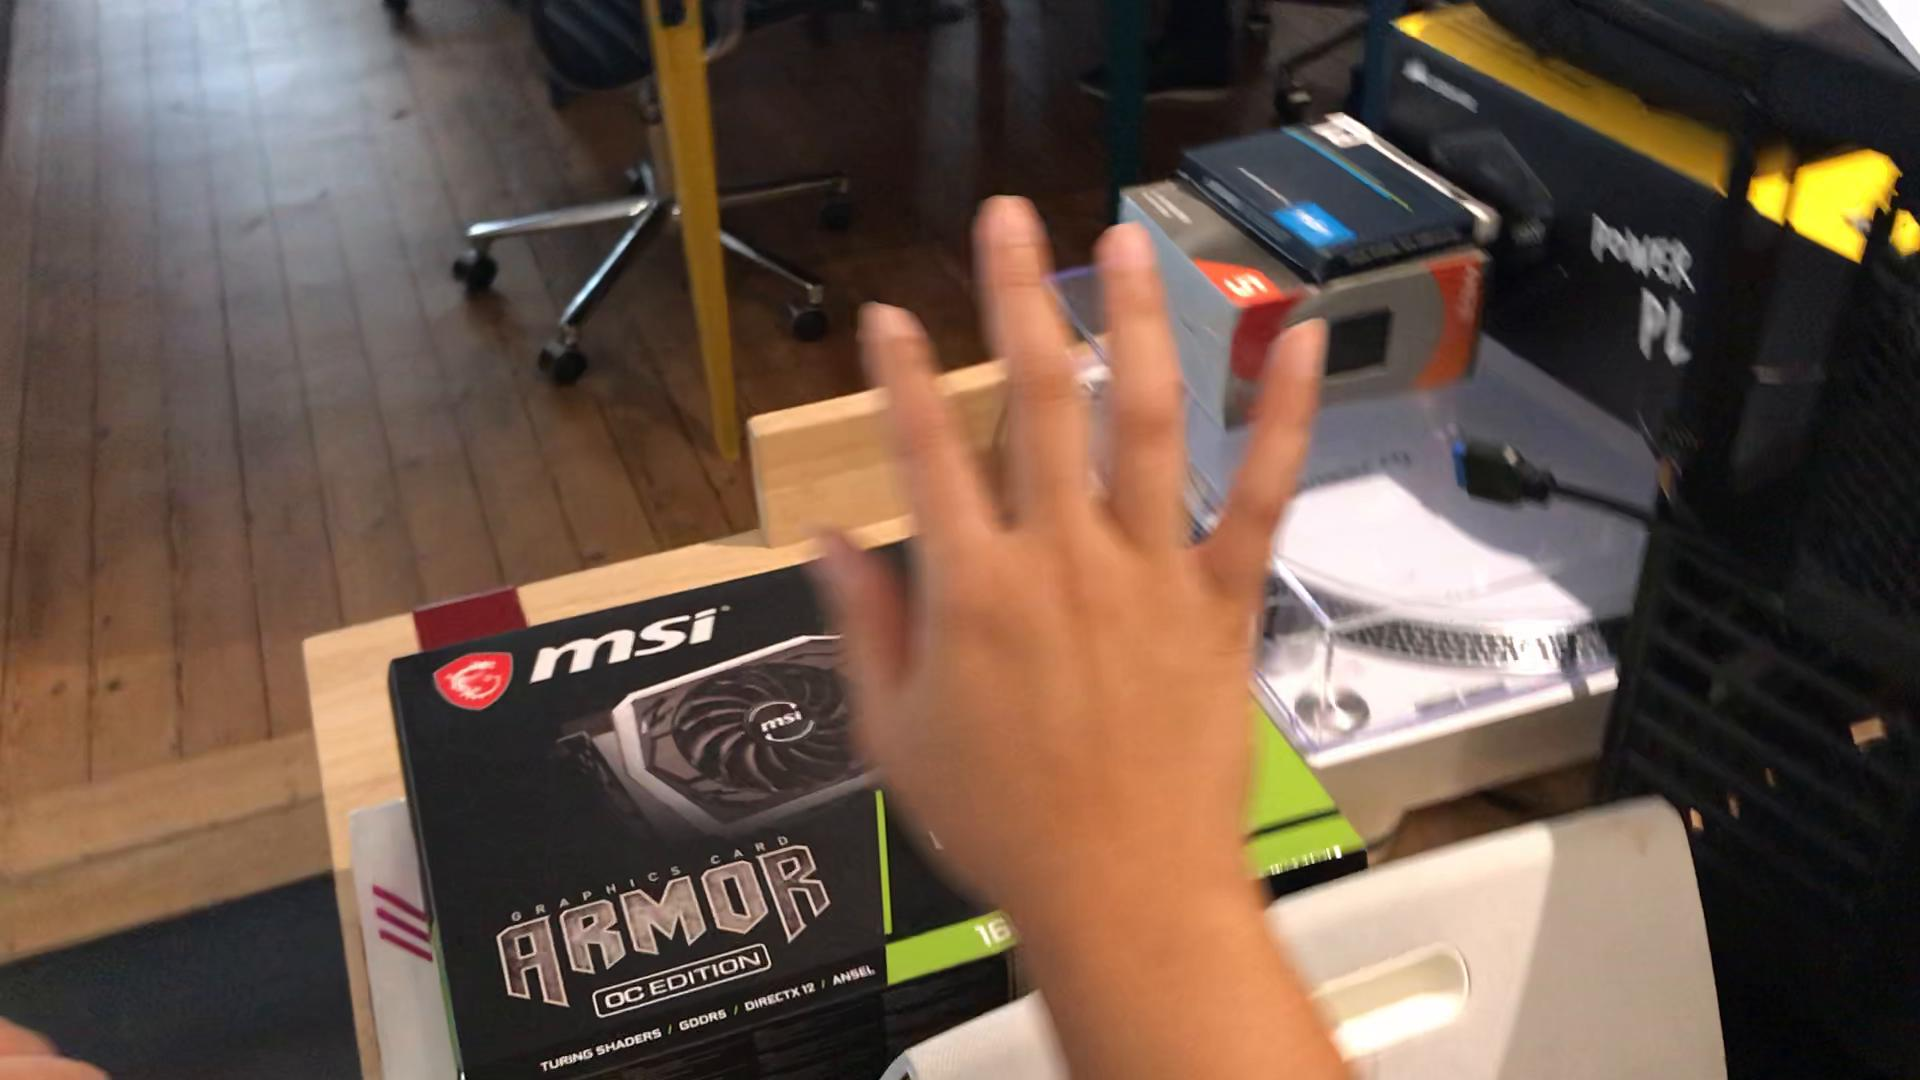hand: (800, 189, 1327, 897)
